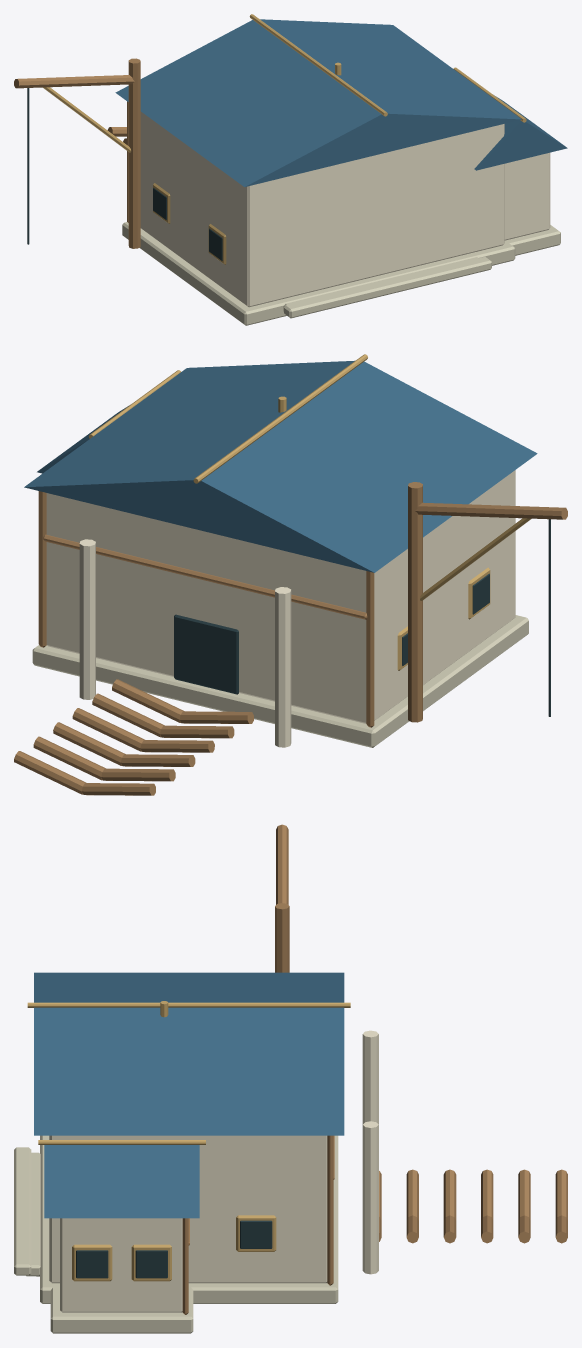
Rendered from level_26.glb.
The picture shows the model from 3 angles, top to bottom: view 1: azimuth 30°, elevation 25°; view 2: azimuth 150°, elevation 25°; view 3: azimuth 270°, elevation 25°; orthographic projection. The views are drawn at different scales.
Visible parts, largest first — view 1: shipyard — level 26; view 2: shipyard — level 26; view 3: shipyard — level 26.
Part boxes in pixels (left/top/right/bottom): shipyard — level 26: left=14, top=14, right=567, bottom=325; shipyard — level 26: left=14, top=354, right=567, bottom=795; shipyard — level 26: left=14, top=824, right=567, bottom=1333.
Bounding box in the file's own units: 10.13 × 4.41 × 8.92.
